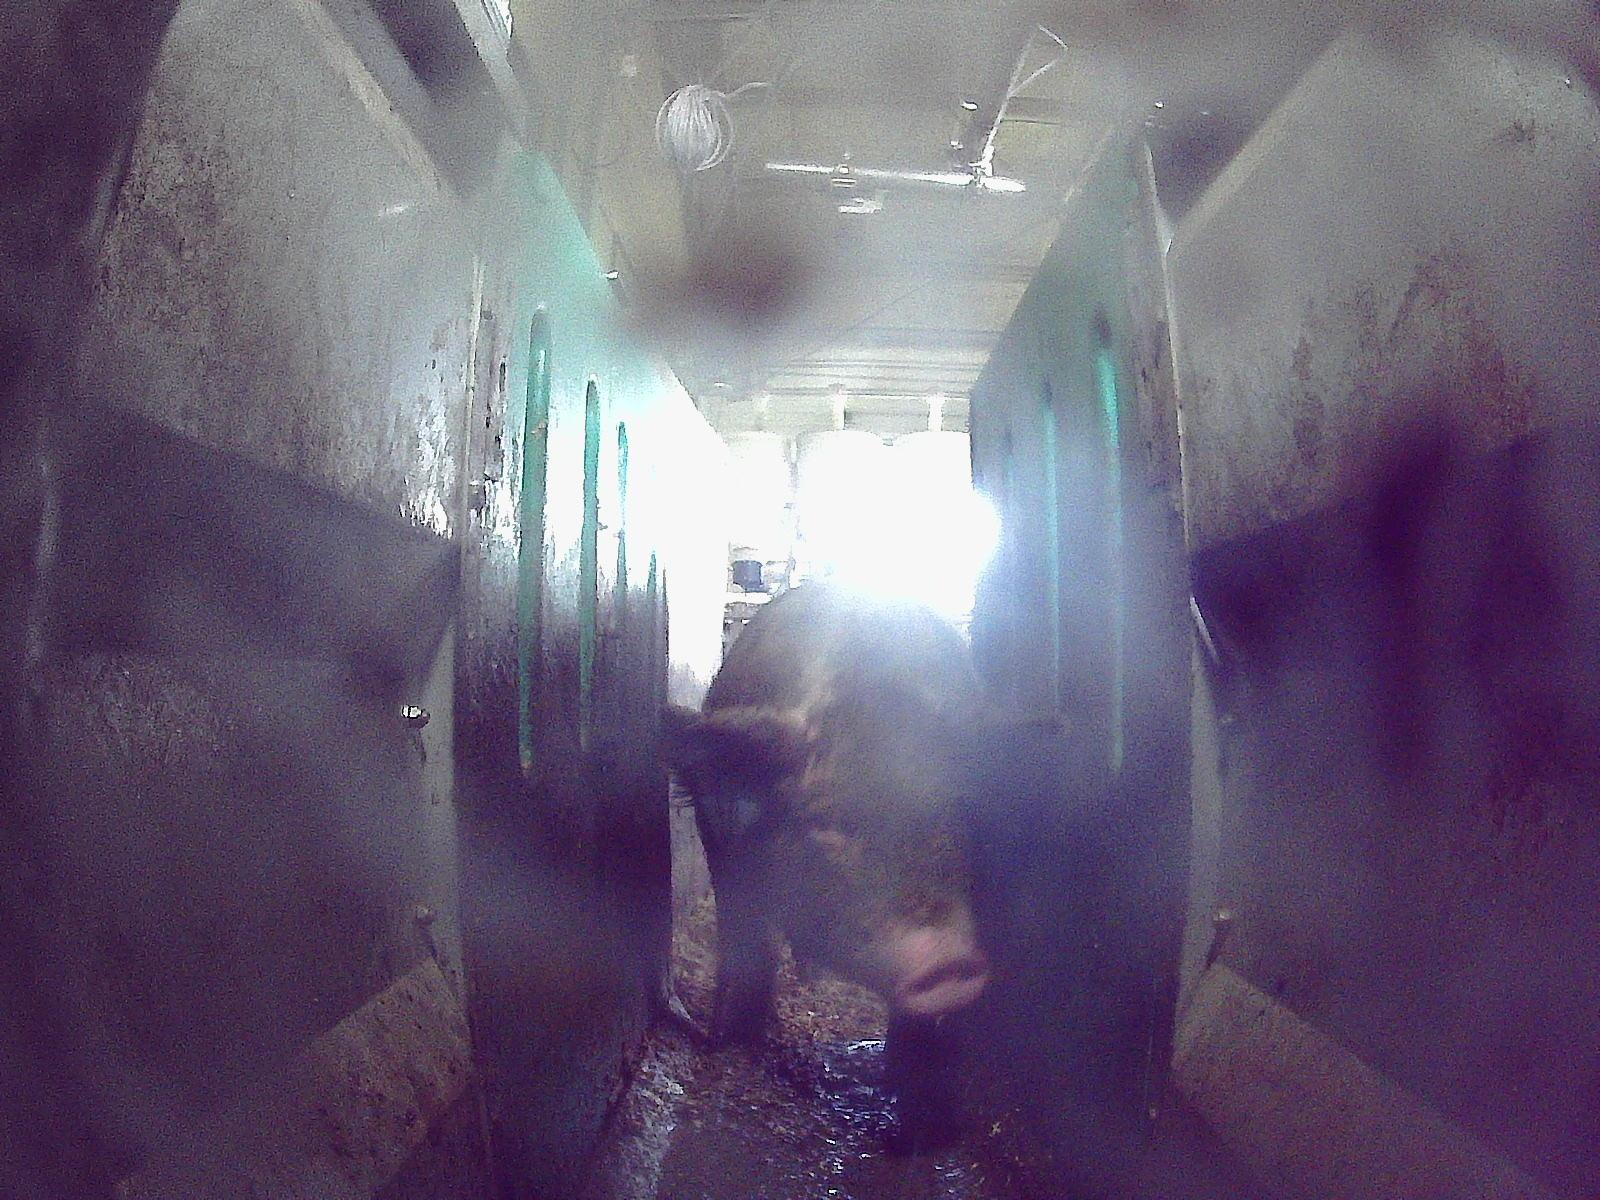Face: (748, 692, 995, 1016)
